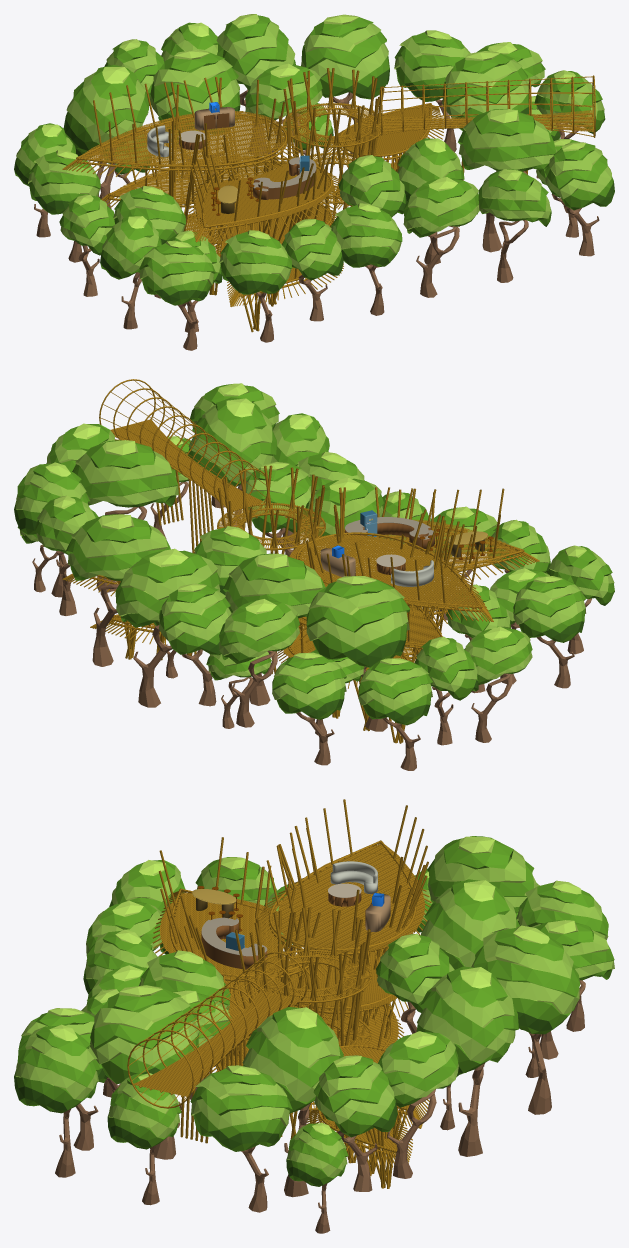
File: interior.glb
3 renders of one model, top to bottom at view 1: azimuth 30°, elevation 25°; view 2: azimuth 150°, elevation 25°; view 3: azimuth 270°, elevation 25°, orthographic. The views are drawn at different scales.
Parts seen in each view (by area): view 1: SharmaSprings_L4_Final_v2, low_poly_tree_with_twisting_branches3, low_poly_tree_with_twisting_branches19, low_poly_tree_with_twisting_branches6, low_poly_tree_with_twisting_branches4, low_poly_tree_with_twisting_branches17, low_poly_tree_with_twisting_branches11, low_poly_tree_with_twisting_branches28, low_poly_tree_with_twisting_branches24, low_poly_tree_with_twisting_branches12, low_poly_tree_with_twisting_branches2, low_poly_tree_with_twisting_branches5 (+19 smaller); view 2: SharmaSprings_L4_Final_v2, low_poly_tree_with_twisting_branches6, low_poly_tree_with_twisting_branches17, low_poly_tree_with_twisting_branches5, low_poly_tree_with_twisting_branches3, low_poly_tree_with_twisting_branches19, low_poly_tree_with_twisting_branches7, low_poly_tree_with_twisting_branches4, low_poly_tree_with_twisting_branches8, low_poly_tree_with_twisting_branches26, low_poly_tree_with_twisting_branches27, low_poly_tree_with_twisting_branches23 (+21 smaller); view 3: SharmaSprings_L4_Final_v2, low_poly_tree_with_twisting_branches5, low_poly_tree_with_twisting_branches3, low_poly_tree_with_twisting_branches19, low_poly_tree_with_twisting_branches21, low_poly_tree_with_twisting_branches17, low_poly_tree_with_twisting_branches28, low_poly_tree_with_twisting_branches20, low_poly_tree_with_twisting_branches18, low_poly_tree_with_twisting_branches4, low_poly_tree_with_twisting_branches6, low_poly_tree_with_twisting_branches29 (+12 smaller).
Boxes of the visible parts, x1,y1,x2,y2 form: SharmaSprings_L4_Final_v2: (62,68,595,332); low_poly_tree_with_twisting_branches3: (301,14,389,156); low_poly_tree_with_twisting_branches19: (458,109,557,252); low_poly_tree_with_twisting_branches6: (63,64,148,208); low_poly_tree_with_twisting_branches4: (150,50,240,173); low_poly_tree_with_twisting_branches17: (442,51,530,171); low_poly_tree_with_twisting_branches11: (403,177,479,297); low_poly_tree_with_twisting_branches28: (544,142,614,256); low_poly_tree_with_twisting_branches24: (139,240,215,350); low_poly_tree_with_twisting_branches12: (219,230,292,342); low_poly_tree_with_twisting_branches2: (330,203,402,315); low_poly_tree_with_twisting_branches5: (216,14,295,154); SharmaSprings_L4_Final_v2: (62,379,539,743); low_poly_tree_with_twisting_branches6: (306,576,410,731); low_poly_tree_with_twisting_branches17: (72,440,178,592); low_poly_tree_with_twisting_branches5: (115,548,220,707); low_poly_tree_with_twisting_branches3: (65,514,170,666); low_poly_tree_with_twisting_branches19: (187,397,276,526); low_poly_tree_with_twisting_branches7: (219,599,299,727); low_poly_tree_with_twisting_branches4: (223,553,325,705); low_poly_tree_with_twisting_branches8: (159,583,231,706); low_poly_tree_with_twisting_branches26: (358,658,432,770); low_poly_tree_with_twisting_branches27: (272,652,346,765); low_poly_tree_with_twisting_branches23: (513,576,586,688); SharmaSprings_L4_Final_v2: (127,799,431,1188); low_poly_tree_with_twisting_branches5: (471,925,580,1114); low_poly_tree_with_twisting_branches3: (416,966,518,1156); low_poly_tree_with_twisting_branches19: (90,985,199,1159); low_poly_tree_with_twisting_branches21: (190,1065,292,1212); low_poly_tree_with_twisting_branches17: (242,1007,343,1197); low_poly_tree_with_twisting_branches28: (14,1024,100,1177); low_poly_tree_with_twisting_branches20: (313,1055,397,1191); low_poly_tree_with_twisting_branches18: (378,1031,458,1178); low_poly_tree_with_twisting_branches4: (421,879,519,1066); low_poly_tree_with_twisting_branches6: (427,836,537,913); low_poly_tree_with_twisting_branches29: (107,1073,181,1205).
Size of the model in its own units: 42.07 by 16.08 by 36.55.
Materials: 24 (1 with a texture image).
